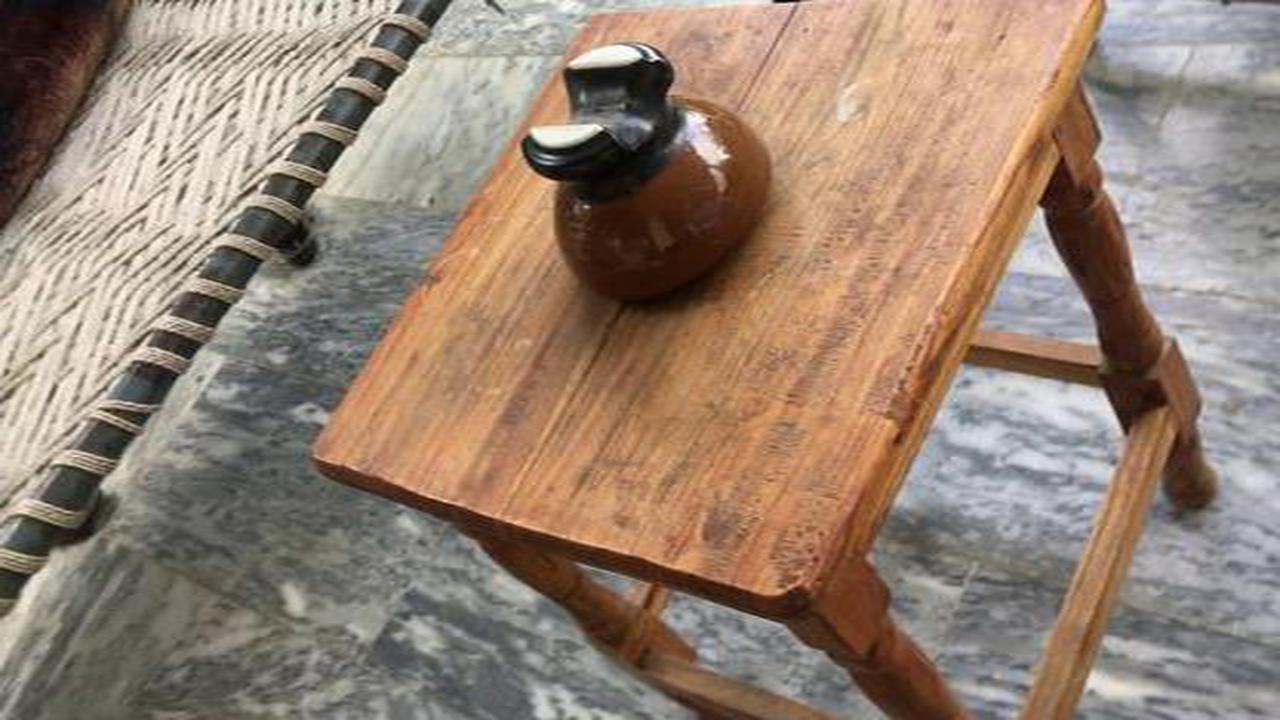insulator_pin: (508, 40, 797, 317)
